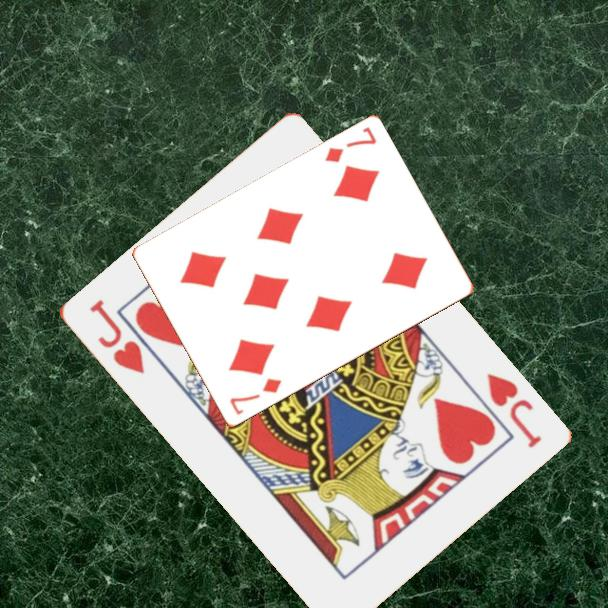d07: (226, 375, 284, 418), (321, 124, 380, 166)
h11: (85, 295, 147, 378), (482, 369, 544, 451)
